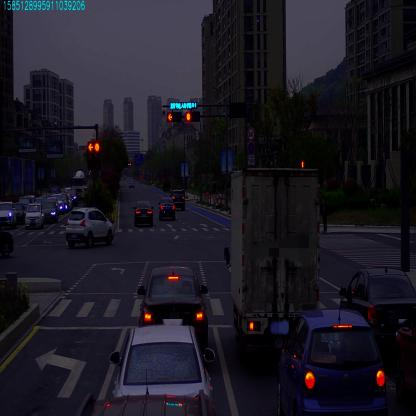traffic-light: (170, 101, 197, 109), (166, 114, 182, 124), (187, 112, 201, 122)
